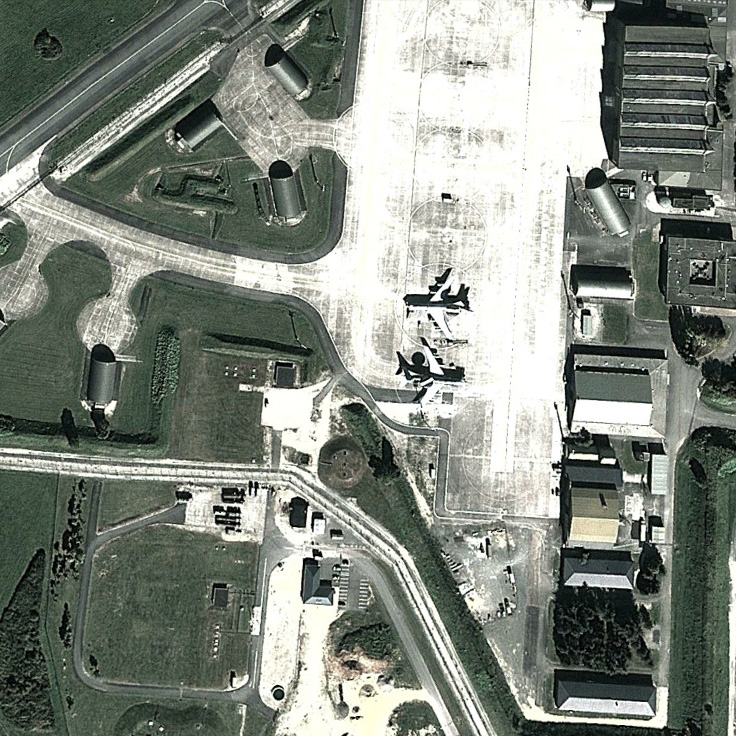A7: (404, 272, 473, 337), (401, 341, 466, 407)
